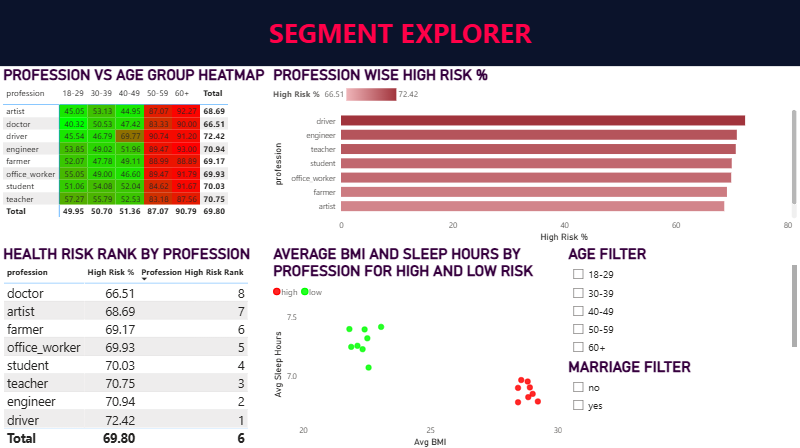

The page's visual inventory and layout, read from the dashboard file:
{"tool":"powerbi","page":{"name":"Segment Explorer","canvas":[1280,720],"ordinal":2},"visuals":[{"type":"textbox","box":[0,0,1280,106],"z":0},{"type":"pivotTable","title":"PROFESSION VS AGE GROUP HEATMAP","fields":{"Rows":["health_risk_db customers.profession"],"Columns":["health_risk_db customers.Age Group"],"Values":["health_risk_db customers.High Risk %"]},"box":[0,106,432,286],"z":1000},{"type":"clusteredBarChart","title":"PROFESSION WISE HIGH RISK % ","fields":{"Category":["health_risk_db customers.profession"],"Y":["health_risk_db customers.High Risk %"]},"box":[432,106,848,286],"z":2000},{"type":"tableEx","title":"HEALTH RISK RANK BY PROFESSION","fields":{"Values":["health_risk_db customers.profession","health_risk_db customers.High Risk %","health_risk_db customers.Profession High Risk Rank"]},"box":[0,392,432,328],"z":3000},{"type":"scatterChart","title":"AVERAGE BMI AND SLEEP HOURS BY PROFESSION FOR HIGH AND LOW RISK","fields":{"X":["health_risk_db customers.Avg BMI"],"Y":["health_risk_db customers.Avg Sleep Hours"],"Series":["health_risk_db lifestyle_factors.health_risk"],"Category":["health_risk_db customers.profession"]},"box":[432,392,472,328],"z":5000},{"type":"slicer","title":"AGE FILTER","fields":{"Values":["health_risk_db customers.Age Group"]},"box":[904,392,376,180],"z":5001},{"type":"slicer","title":"MARRIAGE FILTER","fields":{"Values":["health_risk_db customers.married"]},"box":[904,572,376,148],"z":5002}]}

Visuals, with their boxes in screenshot pixels (x1, y1, x2, y2), scaled from the page's 1280x720 canvas onto the 800x448 screenshot:
textbox: 0,0,799,66
"PROFESSION VS AGE GROUP HEATMAP" pivotTable: 0,66,270,244
"PROFESSION WISE HIGH RISK % " clusteredBarChart: 270,66,799,244
"HEALTH RISK RANK BY PROFESSION" tableEx: 0,244,270,447
"AVERAGE BMI AND SLEEP HOURS BY PROFESSION FOR HIGH AND LOW RISK" scatterChart: 270,244,565,447
"AGE FILTER" slicer: 565,244,799,356
"MARRIAGE FILTER" slicer: 565,356,799,447
